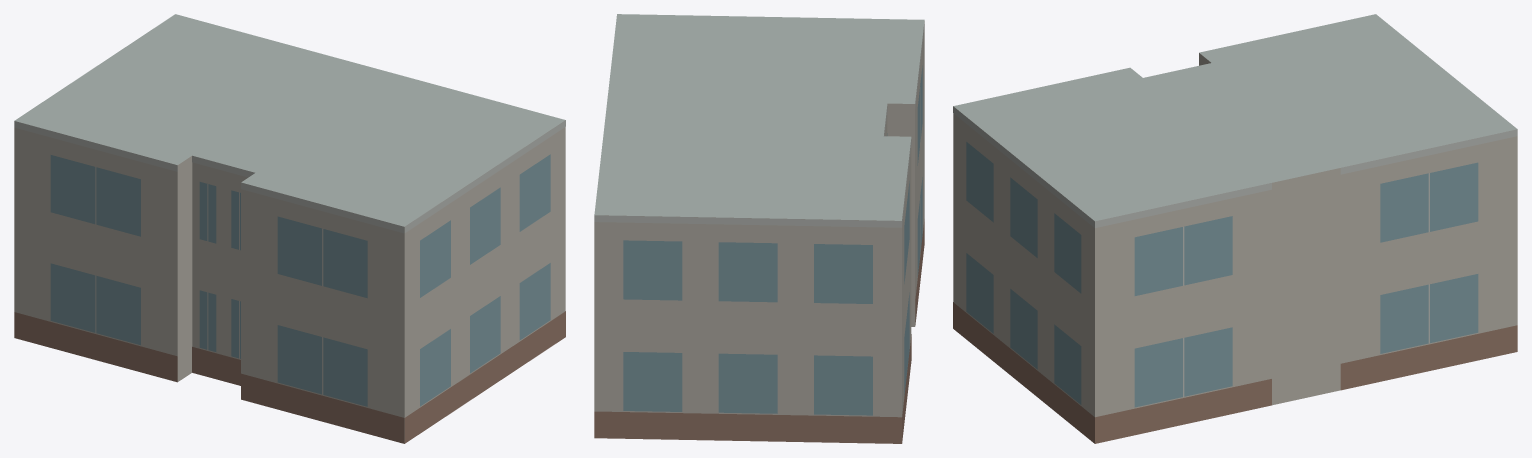
File: survey-upis-32740827.glb
3 views of the same model, side by side, from view 1: azimuth 30°, elevation 25°; view 2: azimuth 150°, elevation 25°; view 3: azimuth 270°, elevation 25° (orthographic). The views are drawn at different scales.
Visible parts, largest first — view 1: survey-upis-32740827.tmp; view 2: survey-upis-32740827.tmp; view 3: survey-upis-32740827.tmp.
Boxes of the visible parts, bbox=[...] form: survey-upis-32740827.tmp: bbox=[14, 14, 565, 443]; survey-upis-32740827.tmp: bbox=[594, 14, 924, 443]; survey-upis-32740827.tmp: bbox=[953, 14, 1517, 443].
Bounding box in the file's own units: 15.8 × 7.9 × 18.17.
